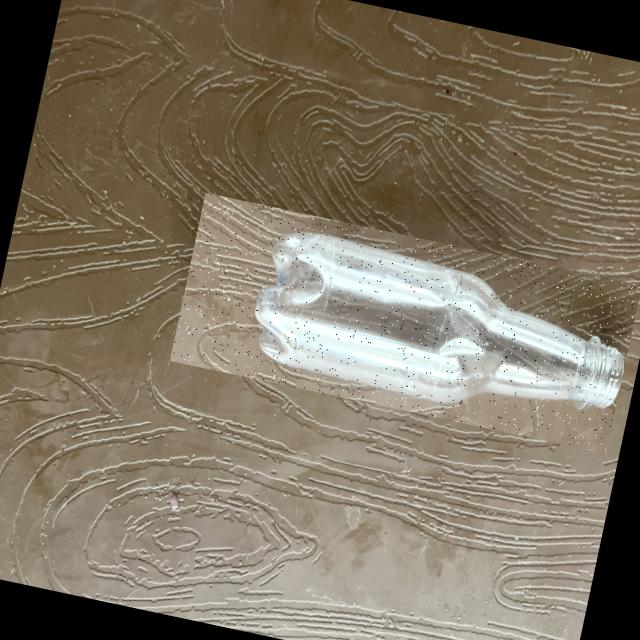PET_ClearBottle: (169, 191, 640, 452)
